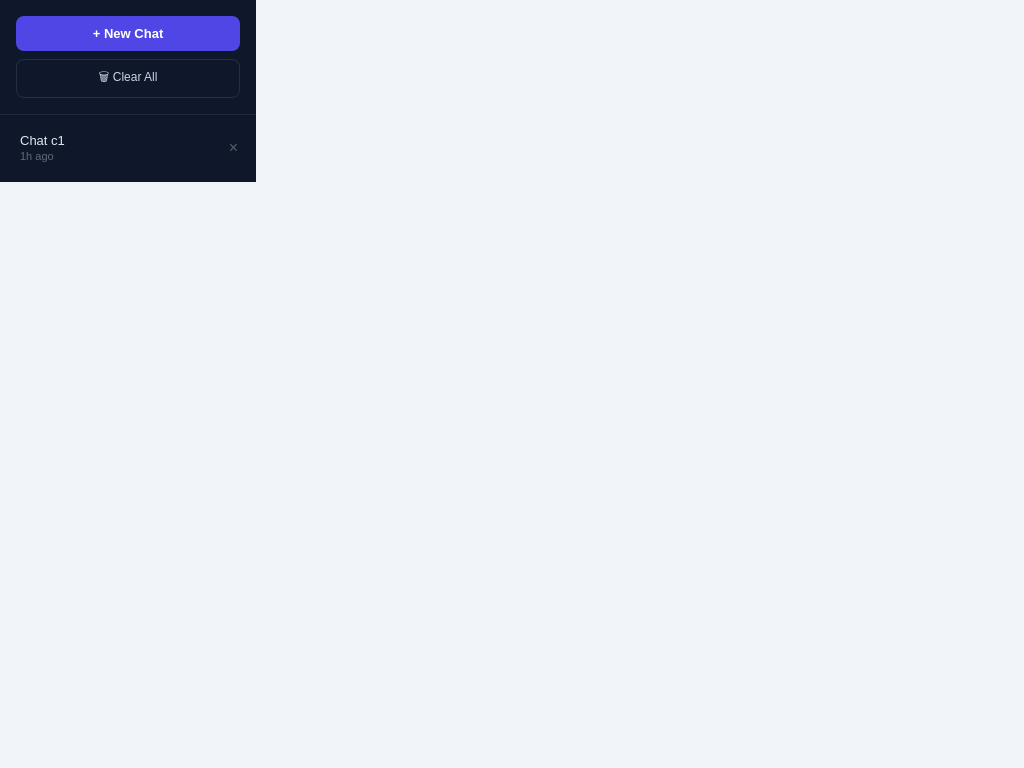
Test case: ConversationSidebar — delete single conversation › closes dialog on cancel without deleting
Click the button with test id "conversation-delete-btn" at (233, 148), box [219,132,248,162]
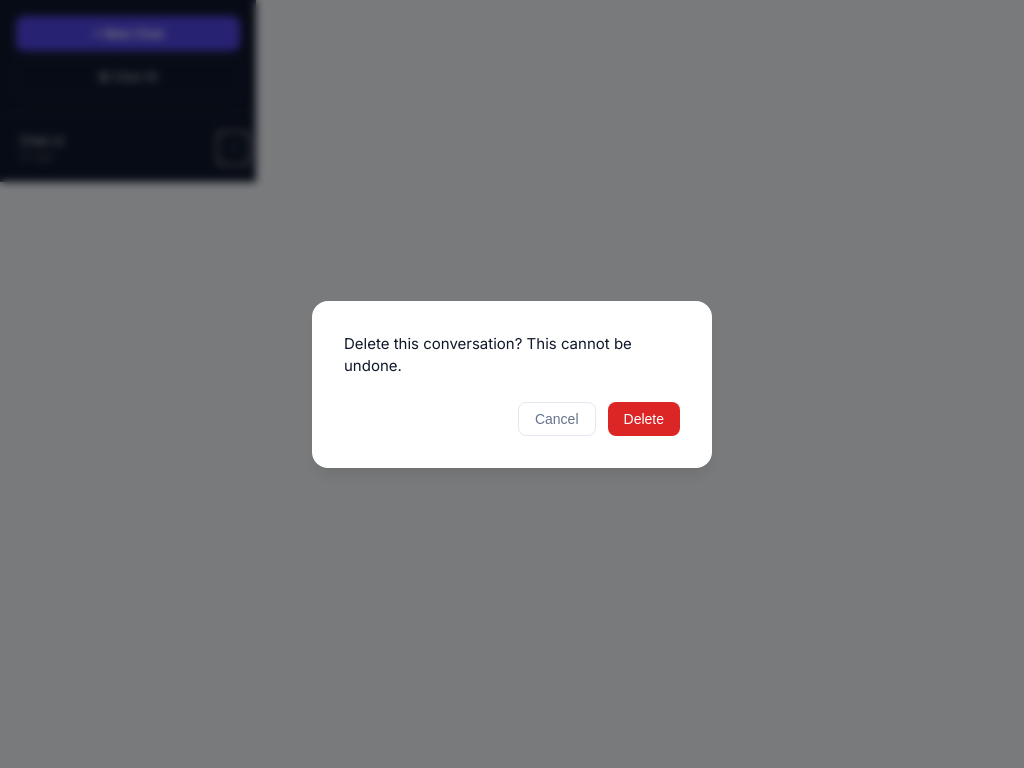
Click the button with test id "confirm-cancel" at (557, 418), box [518,402,596,436]
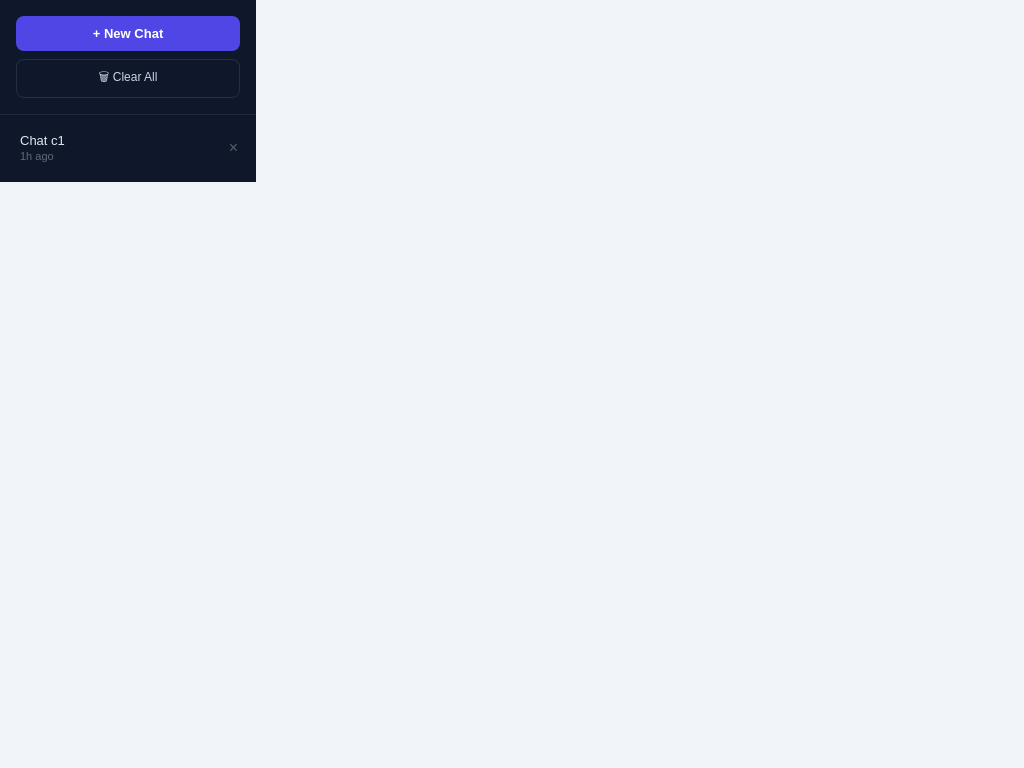
Expected: the element with test id "confirm-dialog" is gone
